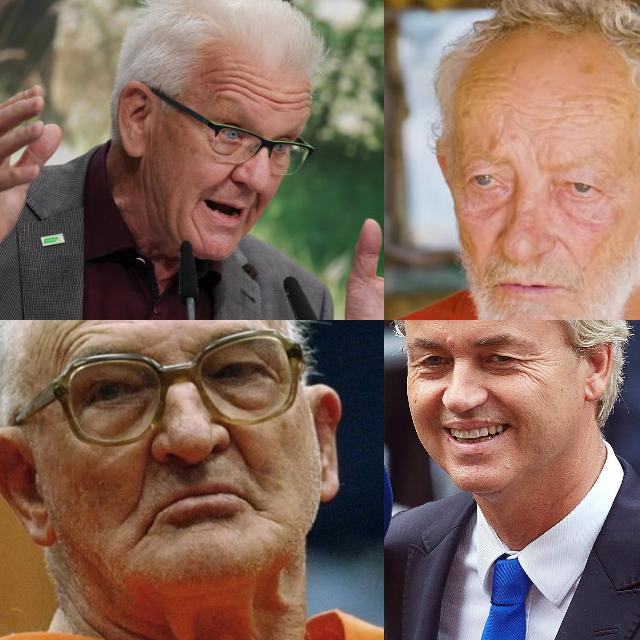crows_feet: (518, 354, 540, 378), (410, 362, 422, 381)
forehead: (51, 320, 86, 361), (213, 66, 254, 100), (268, 86, 310, 114), (550, 98, 586, 124), (496, 100, 532, 120)
gummy_smile: (130, 447, 154, 513), (230, 436, 254, 472), (552, 233, 580, 259)
masseter: (140, 166, 168, 226)
sad_smile: (133, 516, 157, 550), (245, 498, 272, 522), (191, 199, 205, 243)
